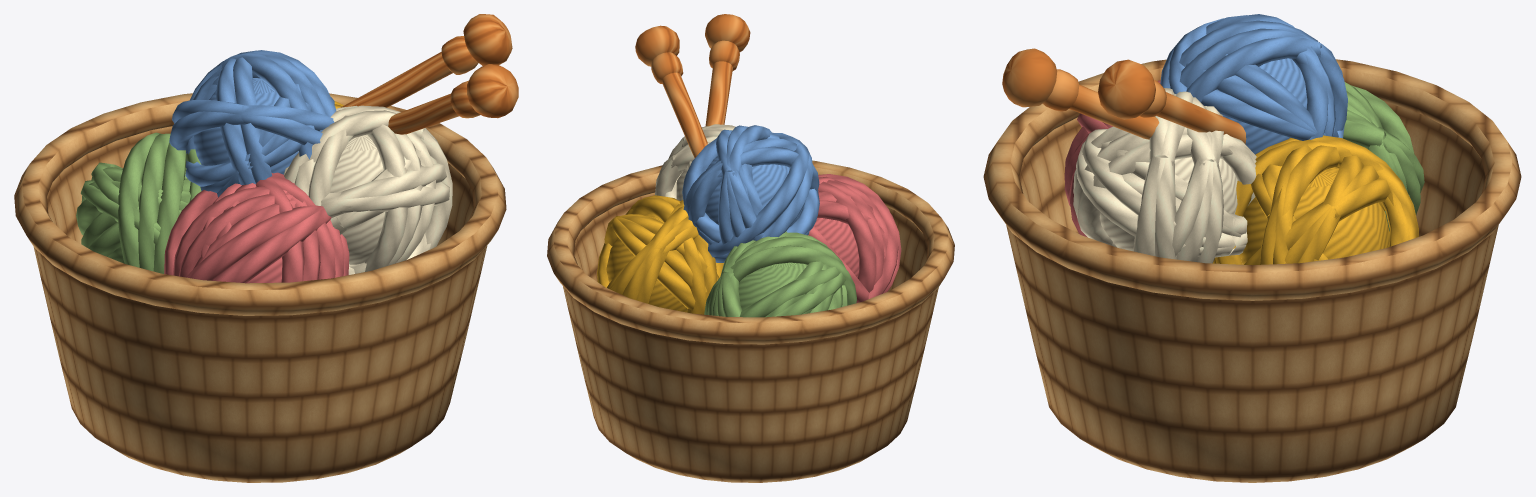
Rendered from yarn_basket.glb.
3 views of the same model, side by side, from view 1: azimuth 30°, elevation 25°; view 2: azimuth 150°, elevation 25°; view 3: azimuth 270°, elevation 25° (orthographic). The views are drawn at different scales.
Visible parts, largest first — view 1: model; view 2: model; view 3: model.
Part boxes in pixels (x1,y1,x2,y2): model: (14, 14, 518, 482); model: (547, 14, 954, 482); model: (983, 14, 1521, 482).
Bounding box in the file's own units: 0.48 × 0.4221 × 0.48.
7 materials, 7 textured.
